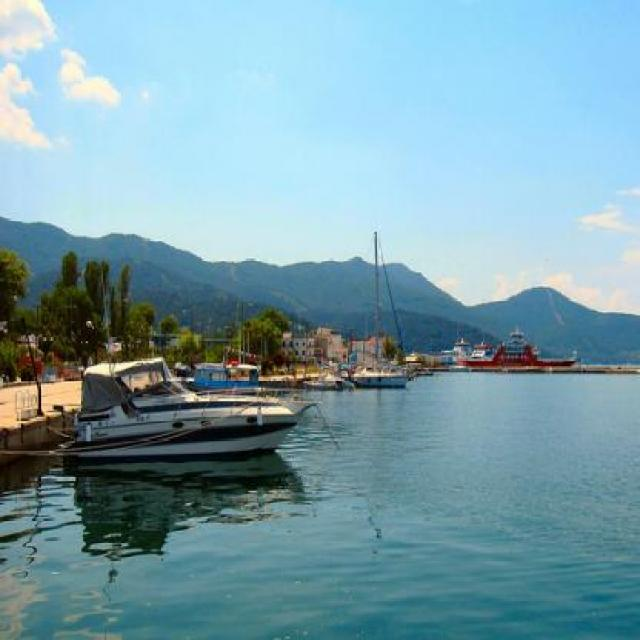ship: (64, 358, 304, 459), (347, 229, 413, 386), (451, 322, 582, 369)
